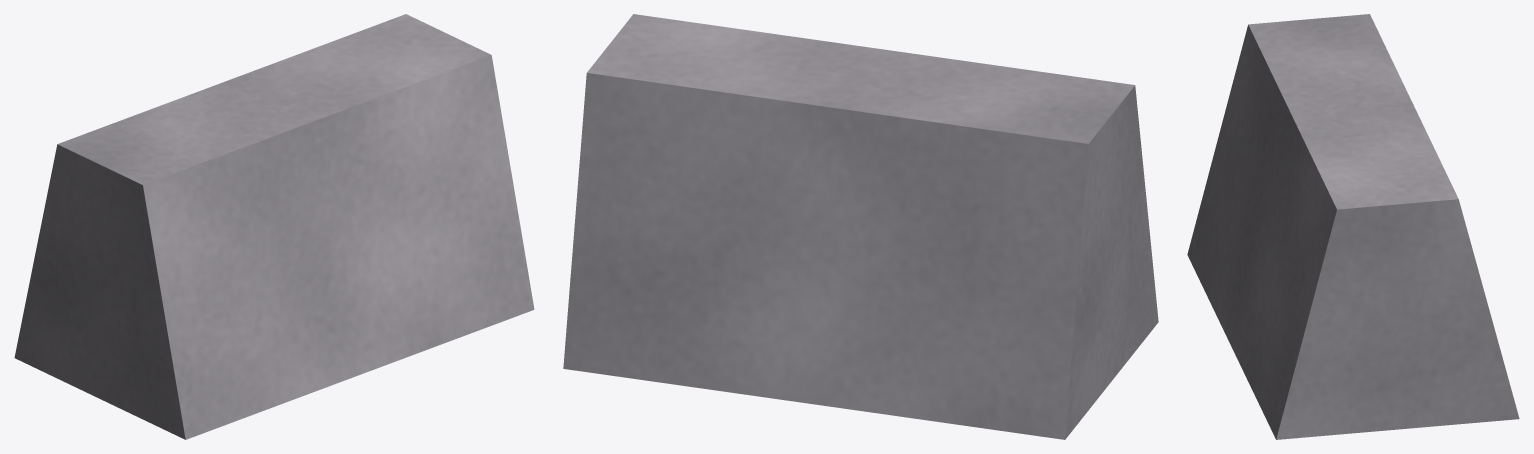
Rendered from cover.glb.
3 renders of one model, left to right at view 1: azimuth 30°, elevation 25°; view 2: azimuth 150°, elevation 25°; view 3: azimuth 270°, elevation 25°, orthographic. The views are drawn at different scales.
Parts seen in each view (by area): view 1: cover | Construction source | reference-mesh-160; view 2: cover | Construction source | reference-mesh-160; view 3: cover | Construction source | reference-mesh-160.
Boxes of the visible parts, x1,y1,x2,y2 form: cover | Construction source | reference-mesh-160: (14,14,534,439); cover | Construction source | reference-mesh-160: (563,14,1158,439); cover | Construction source | reference-mesh-160: (1187,14,1519,439).
Bounding box in the file's own units: 1.96 × 1 × 1.34.
Materials: 1 (1 with a texture image).
